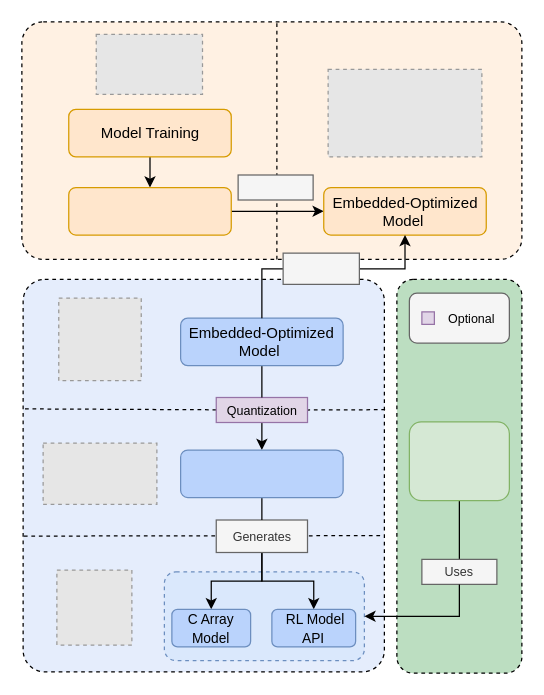
The diagram is 544 pixels wide and 695 high, and some of its shapes have lost their labels. Grey dashed boxes stand in for pictures. The centre of each missing label's shape, as x and y in pixels:
Conversion: [275,187]
Imports: [320,268]
Model: [149,210]
Quantized Model: [261,473]
Zephyrus Inference Engine: [458,461]
